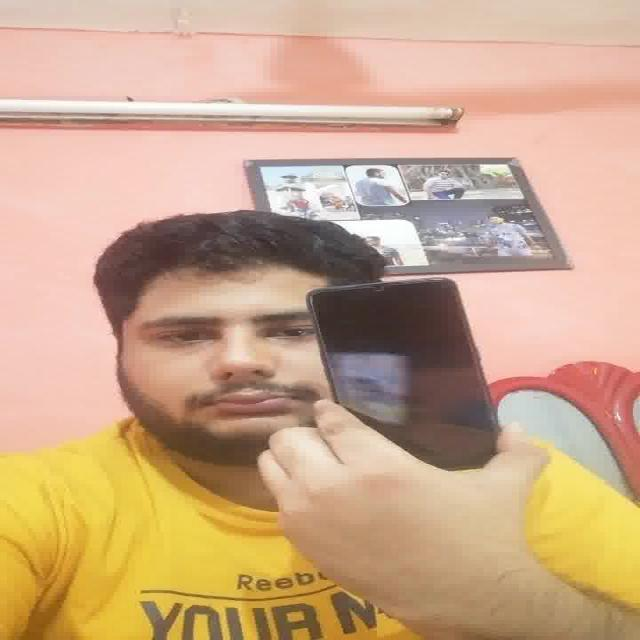Phone: (306, 283, 502, 471)
